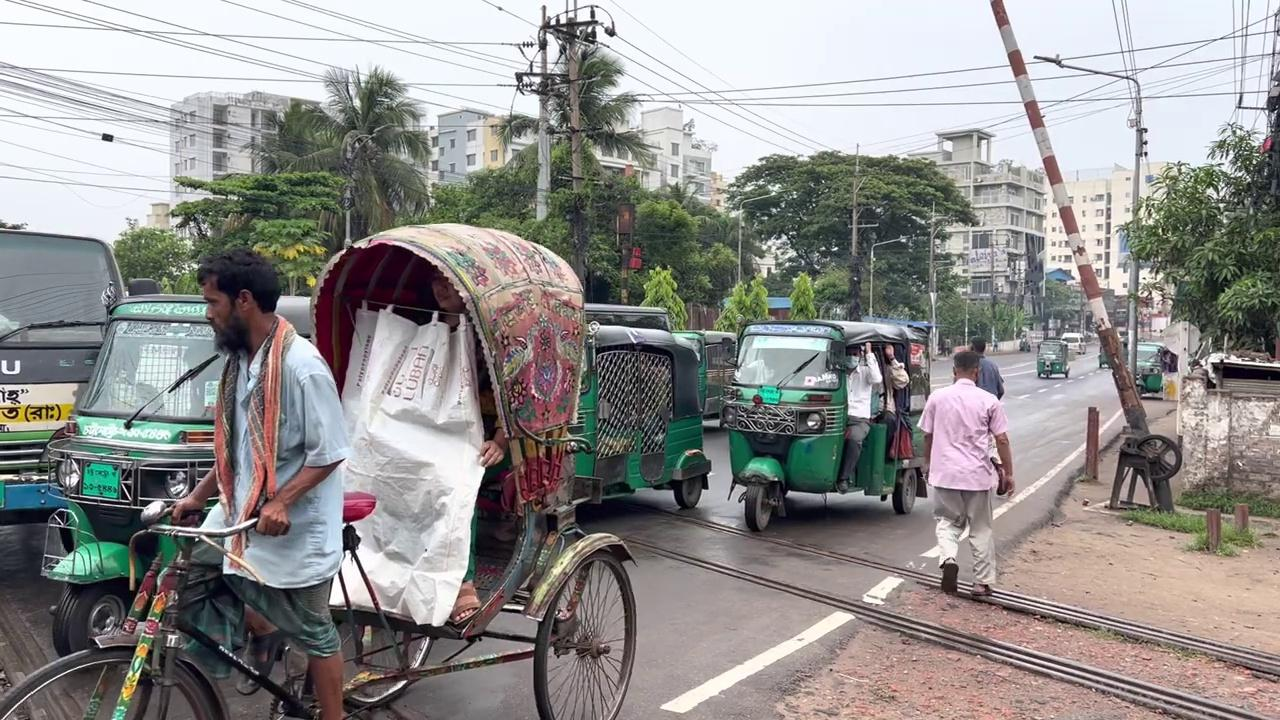Car: (598, 493, 1278, 683)
Fence: (169, 246, 351, 718), (428, 268, 507, 626), (916, 350, 1015, 596), (835, 341, 883, 493)
Garbage: (988, 0, 1175, 511)
Muddy road: (5, 222, 641, 718)
Railroad-crossing: (724, 147, 979, 321), (240, 62, 433, 247)
Rickshaw: (567, 302, 711, 511)
